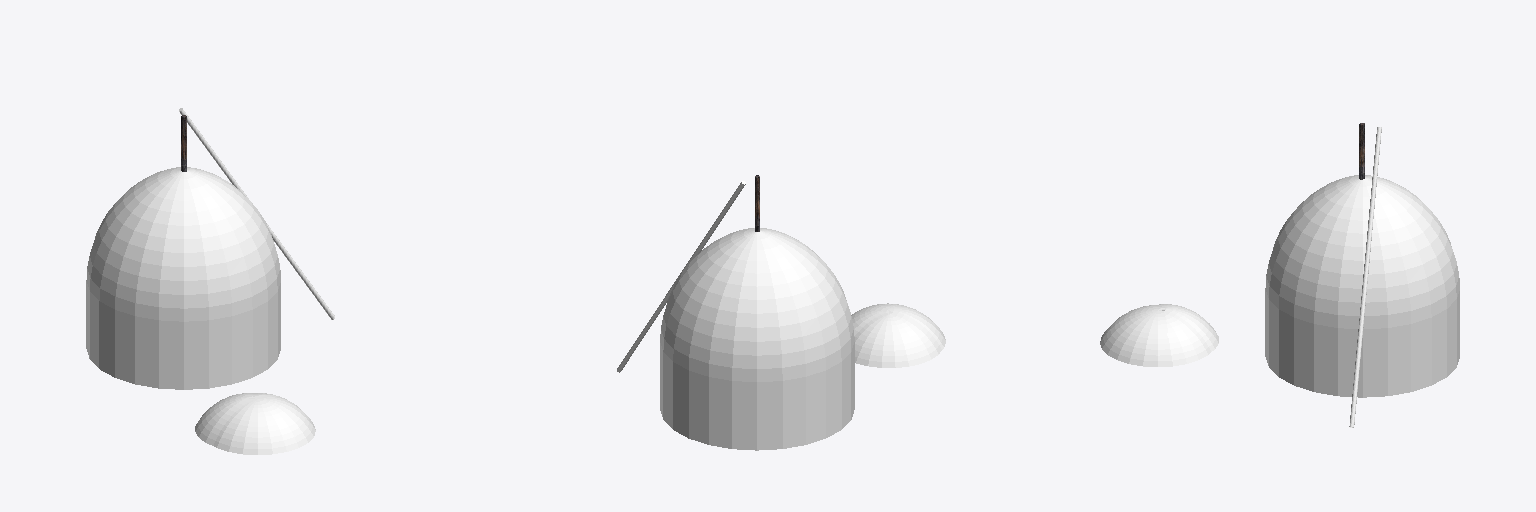
3 views of the same model, side by side, from view 1: azimuth 30°, elevation 25°; view 2: azimuth 150°, elevation 25°; view 3: azimuth 270°, elevation 25° (orthographic).
Visible parts, largest first — view 1: Mesh1 ____________1 Model, Mesh4 ____________1 Model, Mesh3 ____________1 Model; view 2: Mesh1 ____________1 Model, Mesh4 ____________1 Model, Mesh3 ____________1 Model; view 3: Mesh1 ____________1 Model, Mesh4 ____________1 Model, Mesh3 ____________1 Model.
Part boxes in pixels (bbox=[...]): Mesh1 ____________1 Model: bbox=[86, 167, 280, 389]; Mesh4 ____________1 Model: bbox=[195, 393, 315, 454]; Mesh3 ____________1 Model: bbox=[179, 108, 334, 319]; Mesh1 ____________1 Model: bbox=[660, 228, 854, 450]; Mesh4 ____________1 Model: bbox=[851, 303, 945, 367]; Mesh3 ____________1 Model: bbox=[617, 181, 745, 372]; Mesh1 ____________1 Model: bbox=[1265, 175, 1459, 397]; Mesh4 ____________1 Model: bbox=[1100, 304, 1218, 366]; Mesh3 ____________1 Model: bbox=[1349, 127, 1381, 427].
Bounding box in the file's own units: 4.48 × 4.37 × 6.08.
2 materials, 1 textured.